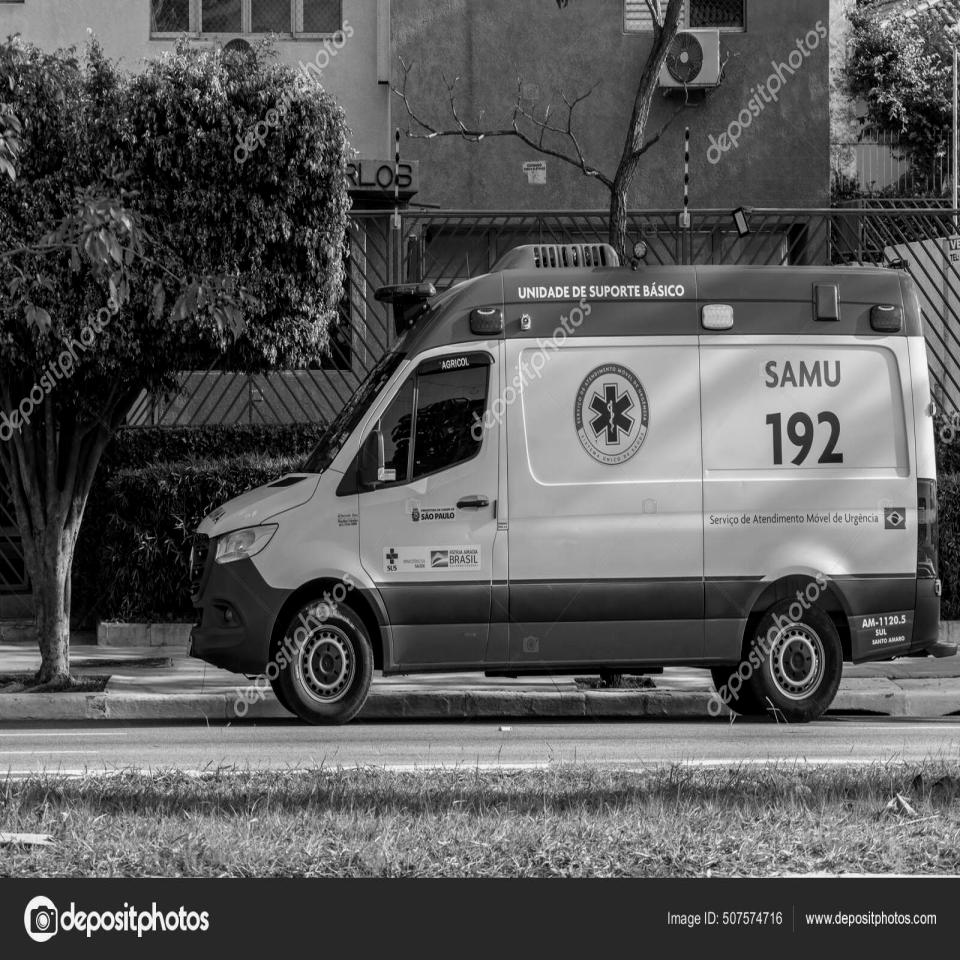ambulancia: (183, 238, 945, 730)
